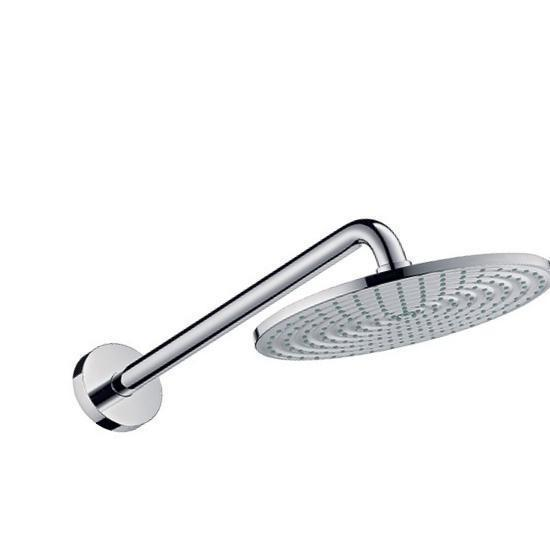Ducha: (47, 151, 549, 447)
